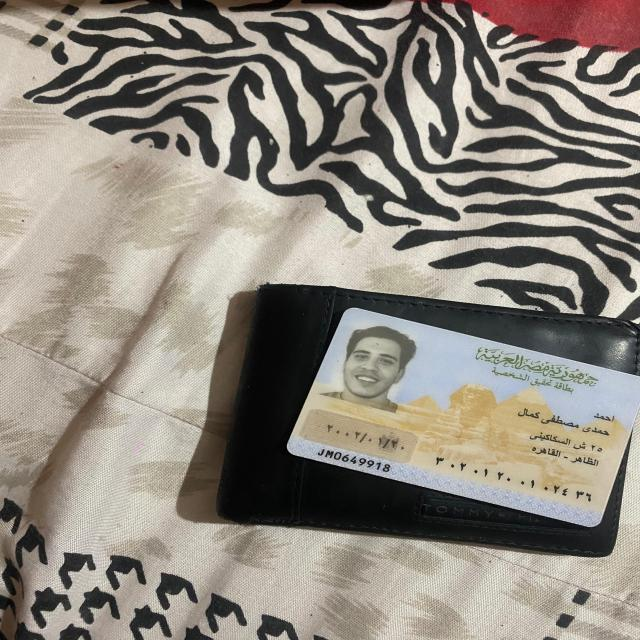ID-cards: (279, 298, 640, 540)
